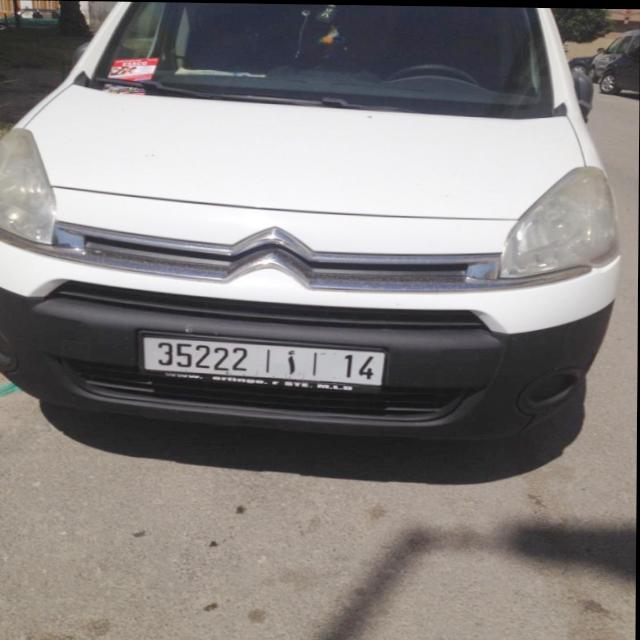License-Plate: (143, 337, 386, 388)
